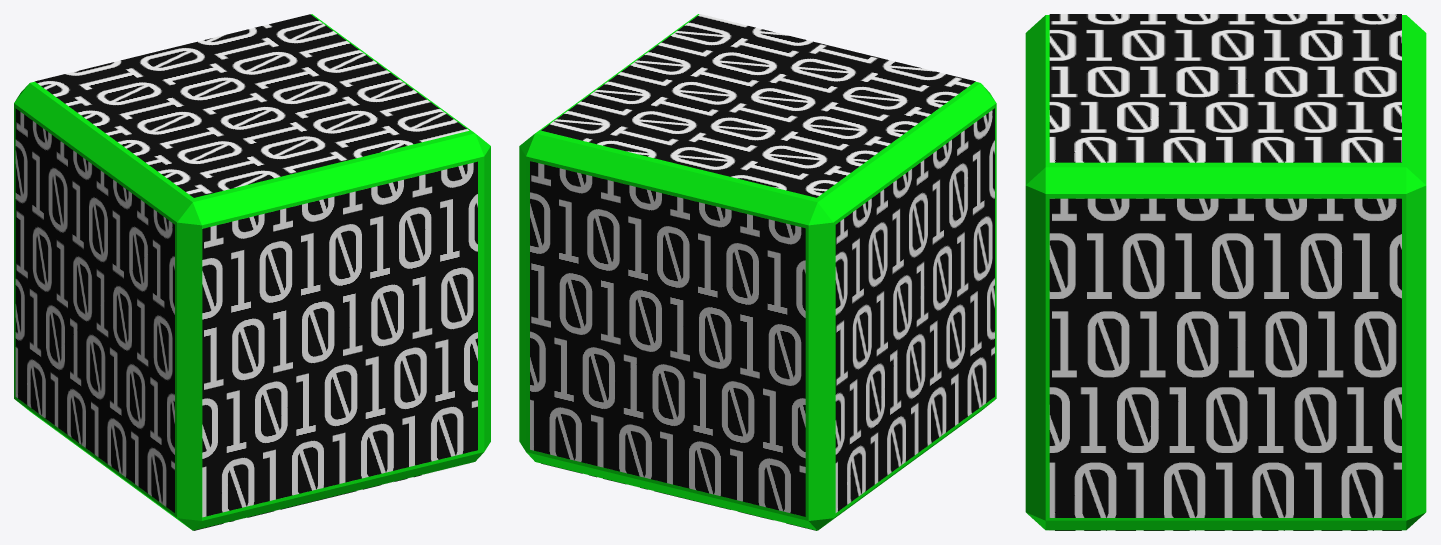
Rendered from CubeBinary.fbx.
The picture shows the model from 3 angles, left to right: view 1: azimuth 30°, elevation 25°; view 2: azimuth 150°, elevation 25°; view 3: azimuth 270°, elevation 25°; orthographic projection. The views are drawn at different scales.
Visible parts, largest first — view 1: Plane.006, Plane.002, Plane.004, Cube; view 2: Plane.005, Plane.002, Plane.004, Cube; view 3: Plane.003, Plane.004, Cube.
Part boxes in pixels (box(x1,y1,x2,y2)): Plane.006: box(202, 161, 477, 517); Plane.002: box(15, 108, 174, 512); Plane.004: box(35, 14, 468, 197); Cube: box(14, 14, 490, 530); Plane.005: box(530, 161, 805, 516); Plane.002: box(835, 108, 994, 512); Plane.004: box(541, 14, 975, 197); Cube: box(519, 14, 996, 530); Plane.003: box(1049, 198, 1401, 517); Plane.004: box(1049, 14, 1401, 162); Cube: box(1025, 15, 1426, 530).
Bounding box in the file's own units: 201 × 203 × 200.
